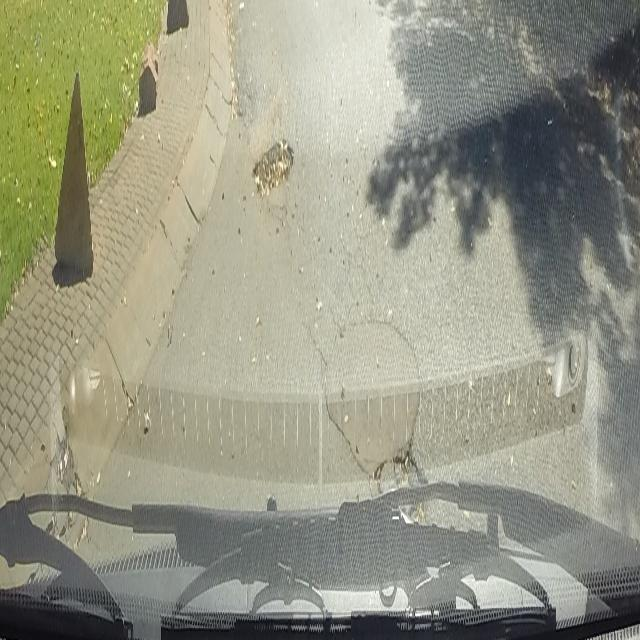pothole: (248, 135, 296, 203)
